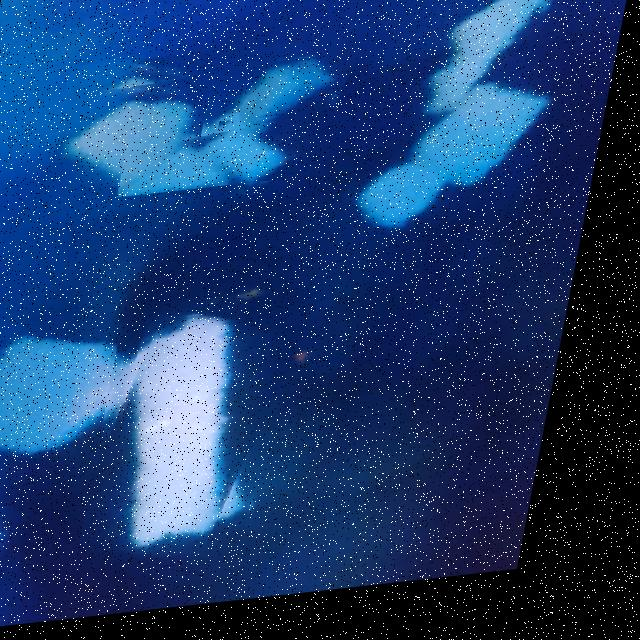thermocoal: (345, 0, 595, 255), (47, 44, 353, 226), (97, 310, 310, 571), (372, 78, 570, 262), (0, 319, 157, 481), (419, 0, 589, 123), (54, 80, 216, 199), (124, 123, 309, 201), (221, 63, 346, 150), (0, 487, 49, 615)
